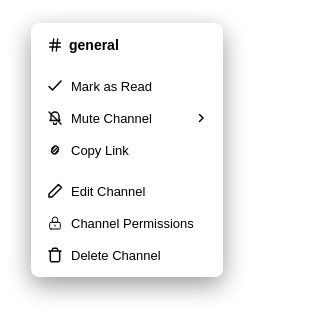
Scenario: ChannelContextMenu — extended coverage › Copy Link › shows Copied! feedback after clicking
Click the button "Copy Link".
click(127, 150)  # box 37,134 -> 217,166
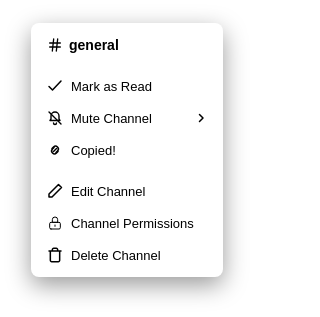
Result: the text "Copied!" is shown at 71,142 -> 116,158
